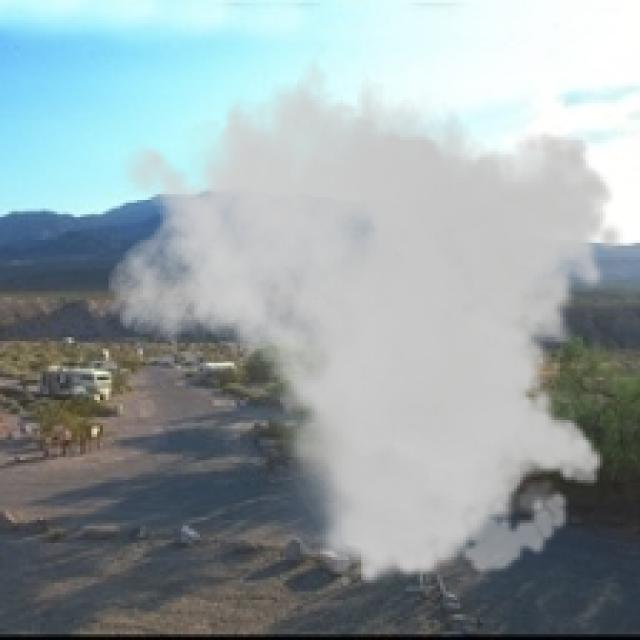smoke: (105, 37, 626, 589)
